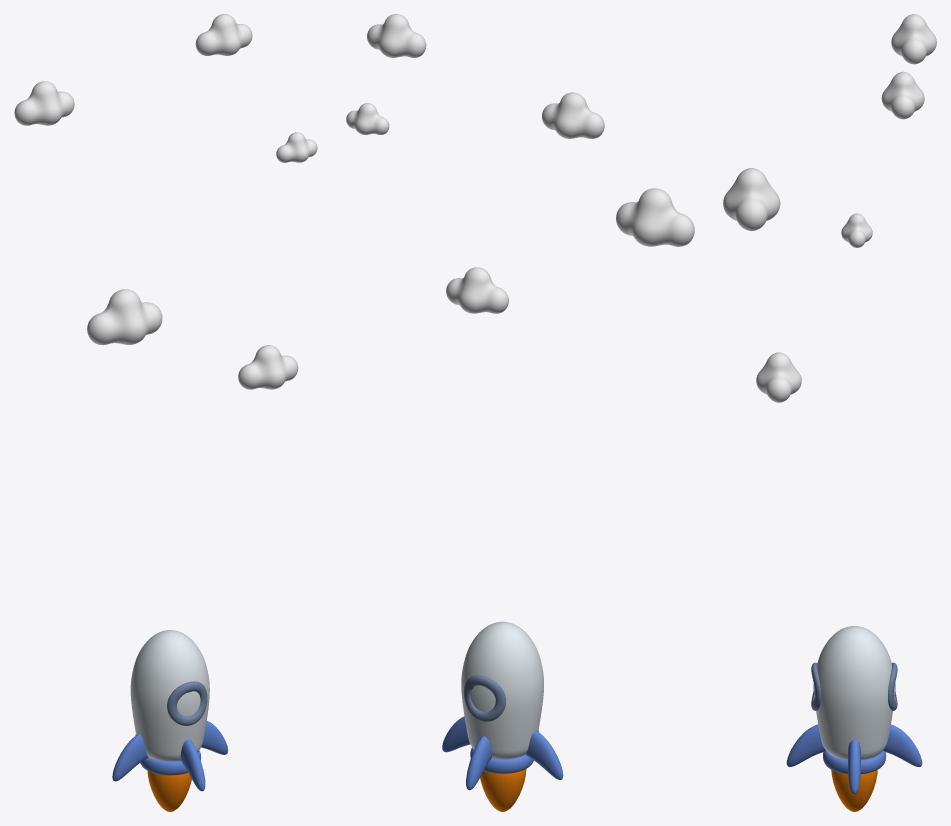
File: rocket-fun-loading-animated-3d-icon-703947311130.glb
3 renders of one model, left to right at view 1: azimuth 30°, elevation 25°; view 2: azimuth 150°, elevation 25°; view 3: azimuth 270°, elevation 25°, orthographic. The views are drawn at different scales.
Parts seen in each view (by area): view 1: Body, Cloud 1, Wing, Cloud 2.001, Cloud 2, Cloud 2.002, Sphere, Window Frame, Cloud 3, Bottom Part; view 2: Body, Cloud 1, Wing, Cloud 2, Cloud 2.001, Cloud 2.002, Sphere, Window Frame.001, Cloud 3, Bottom Part; view 3: Body, Cloud 1, Wing, Cloud 2.001, Cloud 2, Cloud 2.002, Sphere, Cloud 3, Bottom Part.
Boxes of the visible parts, x1,y1,x2,y2 form: Body: (130,630,209,761); Cloud 1: (87,289,162,345); Wing: (112,721,228,791); Cloud 2.001: (14,81,74,125); Cloud 2: (238,345,298,389); Cloud 2.002: (195,14,252,55); Sphere: (147,771,191,811); Window Frame: (167,681,207,725); Cloud 3: (276,132,317,162); Bottom Part: (140,750,201,775); Body: (461,621,543,759); Cloud 1: (616,188,694,246); Wing: (442,716,563,790); Cloud 2: (446,267,508,313); Cloud 2.001: (542,92,604,138); Cloud 2.002: (367,14,426,57); Sphere: (480,769,526,811); Window Frame.001: (464,675,505,721); Cloud 3: (346,103,389,134); Bottom Part: (470,747,533,773); Body: (814,626,894,760); Cloud 1: (723,168,780,231); Wing: (786,724,922,794); Cloud 2.001: (891,14,936,64); Cloud 2: (756,352,801,402); Cloud 2.002: (881,71,924,119); Sphere: (831,770,877,811); Cloud 3: (841,213,872,247); Bottom Part: (823,751,886,774).
Size of the model in its own units: 2.62 by 6.82 by 1.7.
